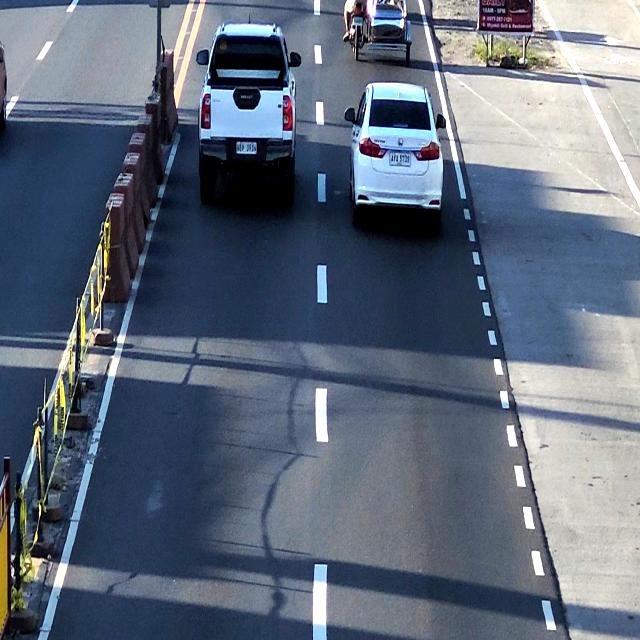Car: (198, 27, 295, 205), (346, 92, 444, 224)
License-Plate: (234, 138, 258, 157), (389, 150, 412, 168)
Tricycle: (344, 0, 413, 55)
